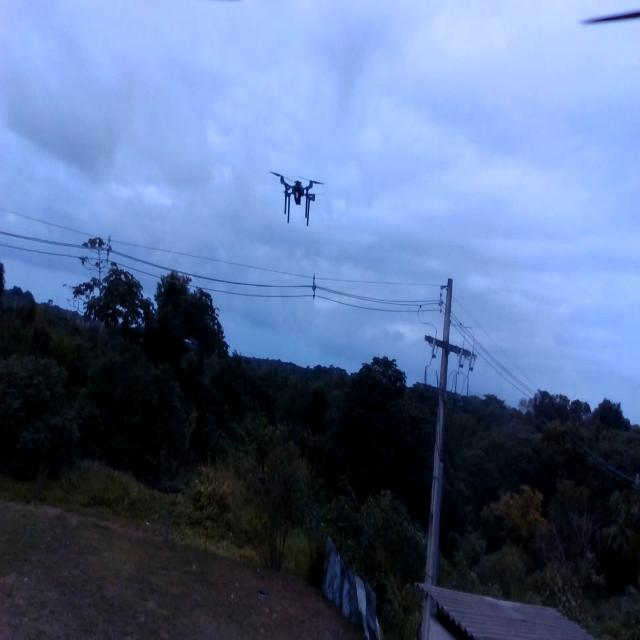-uav-: (266, 156, 328, 234)
